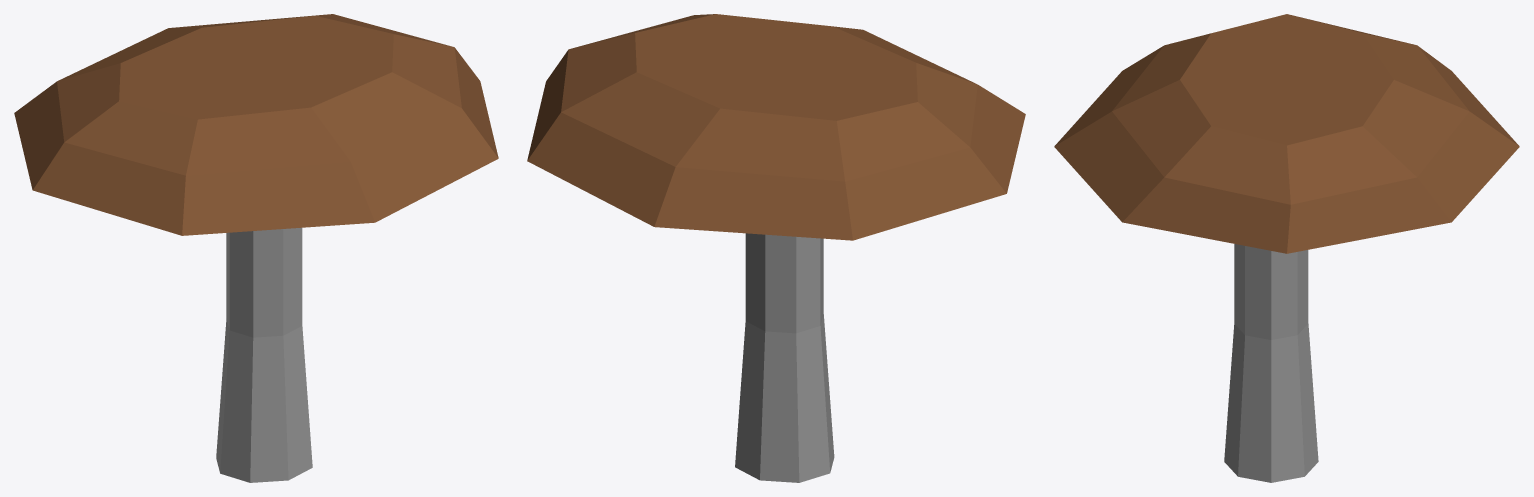
Rendered from Pilz.fbx.
3 views of the same model, side by side, from view 1: azimuth 30°, elevation 25°; view 2: azimuth 150°, elevation 25°; view 3: azimuth 270°, elevation 25° (orthographic). The views are drawn at different scales.
Visible parts, largest first — view 1: Cylinder; view 2: Cylinder; view 3: Cylinder.
Boxes of the visible parts, <box> form: Cylinder: <box>14,14,498,482</box>; Cylinder: <box>527,14,1025,482</box>; Cylinder: <box>1054,14,1519,482</box>.
Size of the model in its own units: 665 by 552 by 611.
